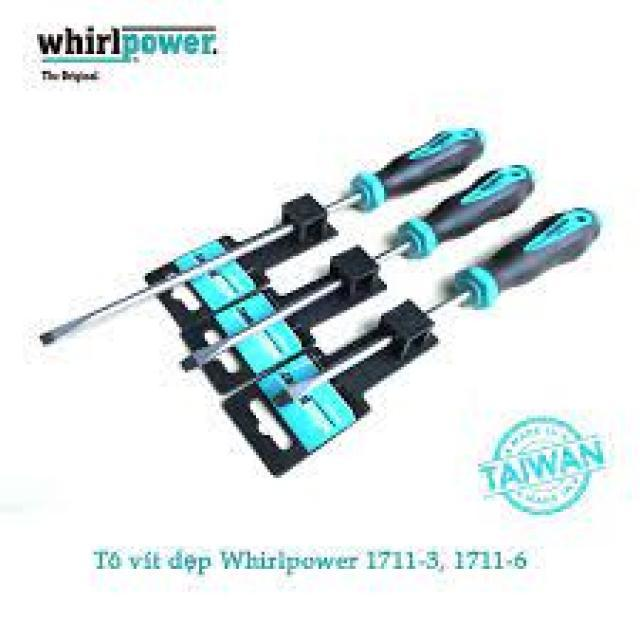screwdriver: (37, 122, 492, 347), (166, 160, 539, 374), (273, 204, 606, 408)
